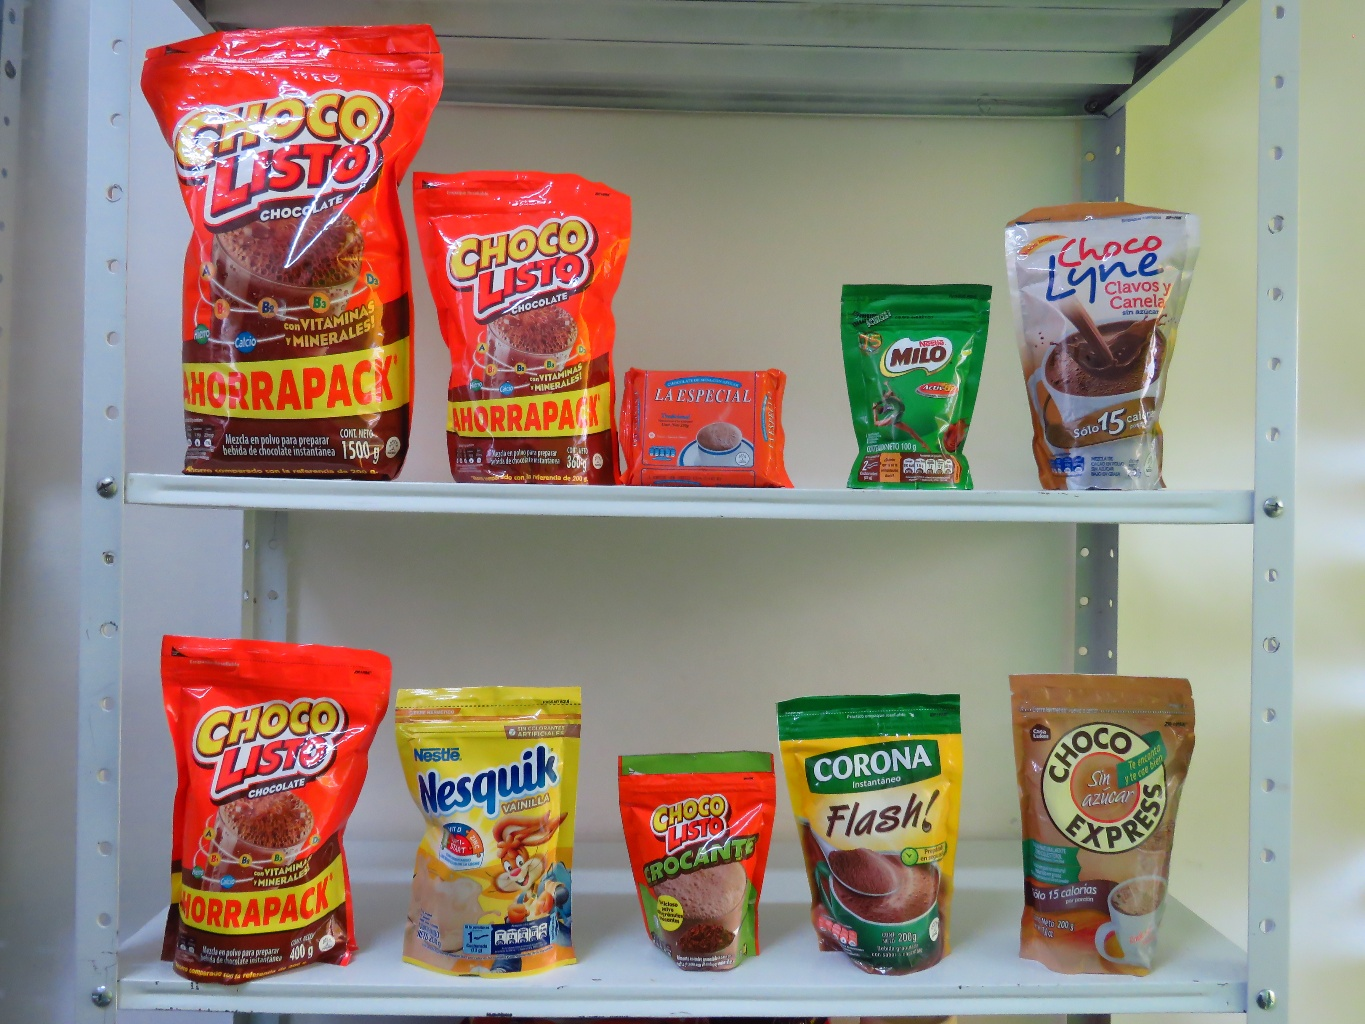COL0170102DYP10000: (591, 725, 794, 993)
COL0170103DYP1,500: (117, 12, 463, 492)
COL0170103DYP36000: (392, 151, 649, 492)
COL0170103DYP40000: (120, 616, 410, 1008)
COL0170203DYP10000: (817, 264, 1004, 496)
COL0170306DYP20000: (382, 664, 605, 987)
